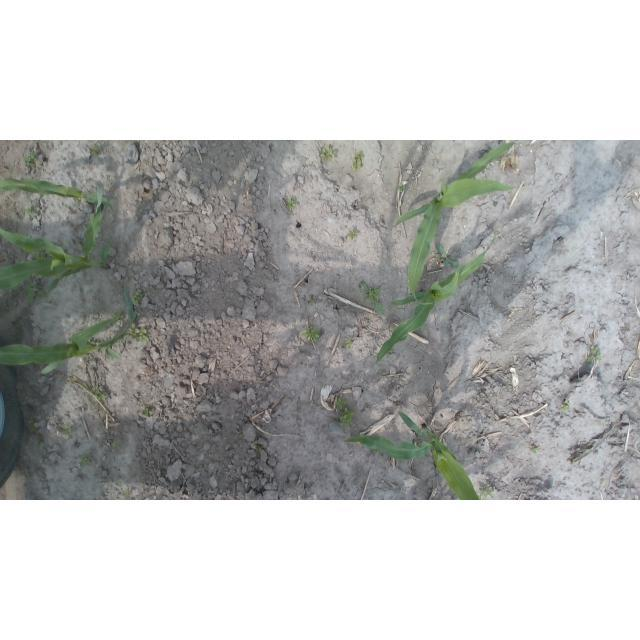Maize: (393, 141, 519, 304), (374, 221, 498, 361), (1, 285, 140, 376), (342, 411, 482, 500), (0, 201, 112, 303), (0, 175, 114, 213)
Weeds: (360, 283, 384, 316), (22, 415, 45, 447), (433, 244, 459, 269), (336, 399, 353, 430), (24, 282, 44, 301), (588, 344, 601, 365), (132, 327, 148, 344), (319, 146, 335, 162), (301, 328, 319, 342), (90, 386, 111, 398), (479, 486, 496, 499), (353, 150, 364, 170), (25, 151, 37, 169), (285, 198, 298, 211), (62, 425, 73, 438), (80, 455, 92, 466), (90, 144, 99, 156), (345, 337, 352, 348), (141, 408, 150, 416), (310, 300, 319, 307), (533, 446, 540, 455), (350, 232, 355, 239)
